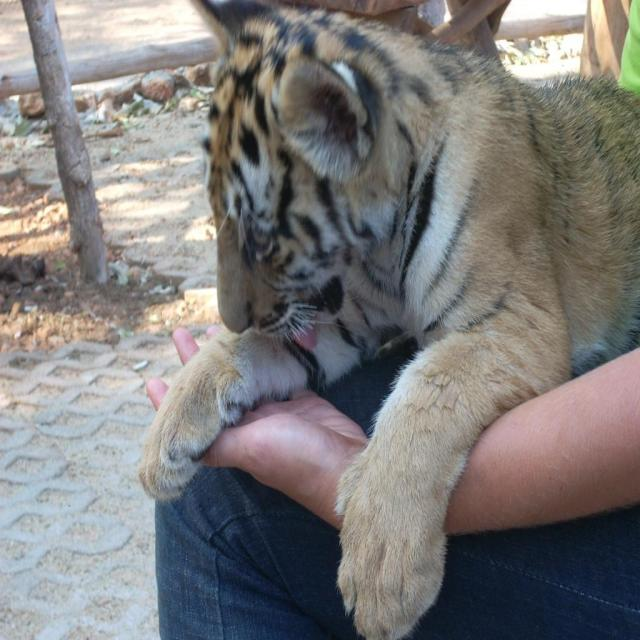Tiger: (134, 0, 639, 639)
